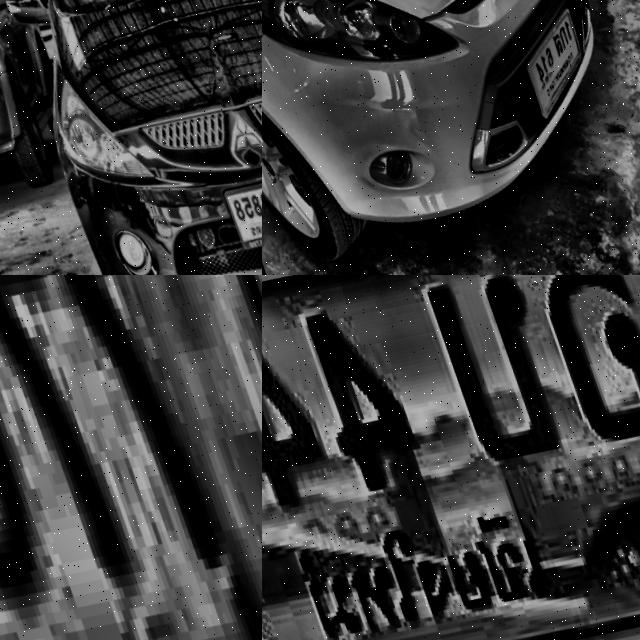license-plate: (262, 275, 640, 640), (0, 275, 262, 640), (495, 0, 603, 124), (206, 154, 262, 254)
